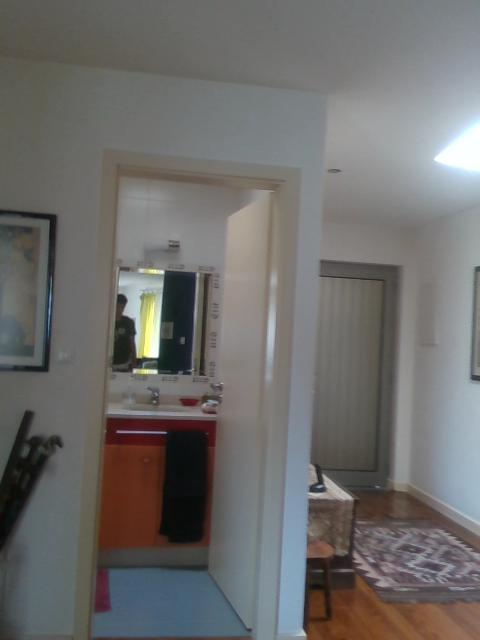open_door: (74, 141, 301, 638)
